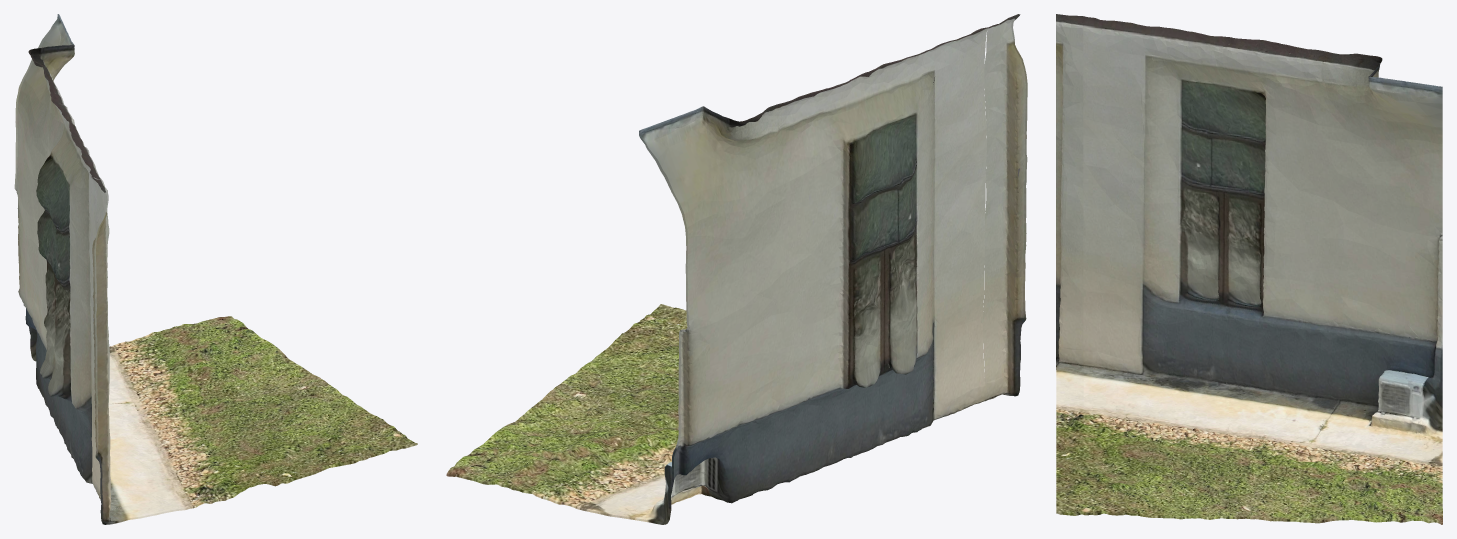
3 views of the same model, side by side, from view 1: azimuth 30°, elevation 25°; view 2: azimuth 150°, elevation 25°; view 3: azimuth 270°, elevation 25° (orthographic). The views are drawn at different scales.
Visible parts, largest first — view 1: node_202; view 2: node_202; view 3: node_202.
Part boxes in pixels (bbox=[...]): node_202: bbox=[14, 14, 417, 524]; node_202: bbox=[446, 14, 1027, 524]; node_202: bbox=[1056, 14, 1442, 524].
Bounding box in the file's own units: 5.42 × 5.56 × 5.5.
1 material, 1 textured.
